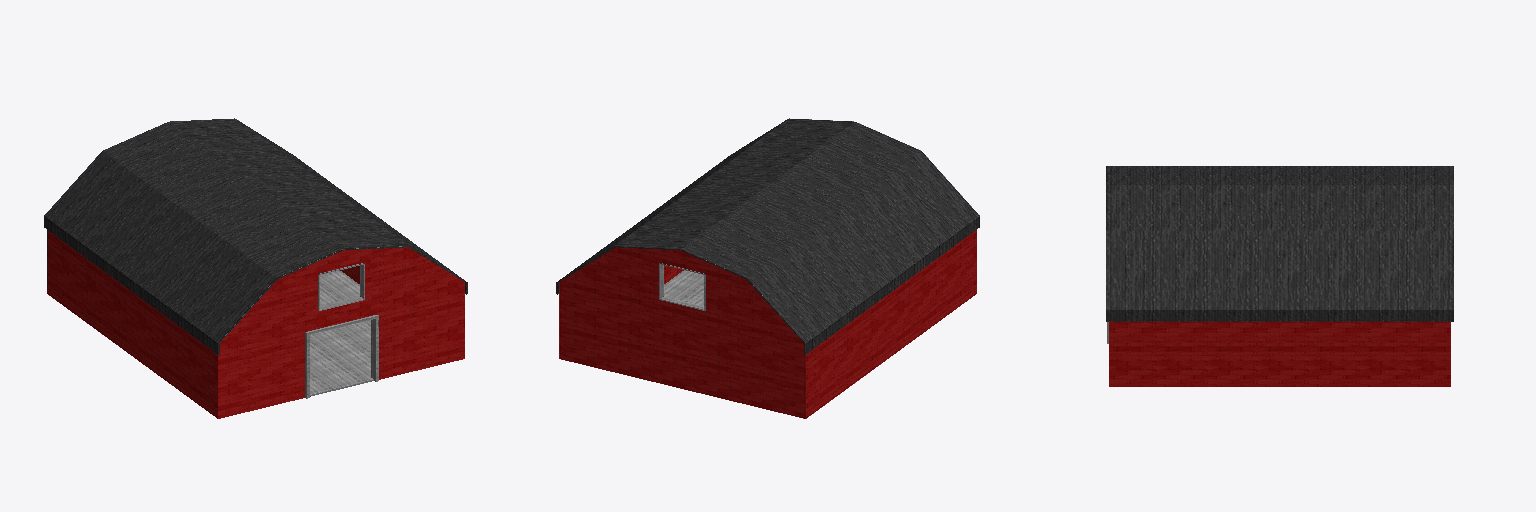
3 renders of one model, left to right at view 1: azimuth 30°, elevation 25°; view 2: azimuth 150°, elevation 25°; view 3: azimuth 270°, elevation 25°, orthographic.
Visible parts, largest first — view 1: Barn_Cube; view 2: Barn_Cube; view 3: Barn_Cube.
Boxes of the visible parts, box(x1,y1,x2,y2) form: Barn_Cube: box(44, 118, 467, 418); Barn_Cube: box(556, 118, 979, 418); Barn_Cube: box(1106, 166, 1453, 386).
Size of the model in its own units: 8.09 by 4.38 by 9.81.
1 materials, 1 textured.